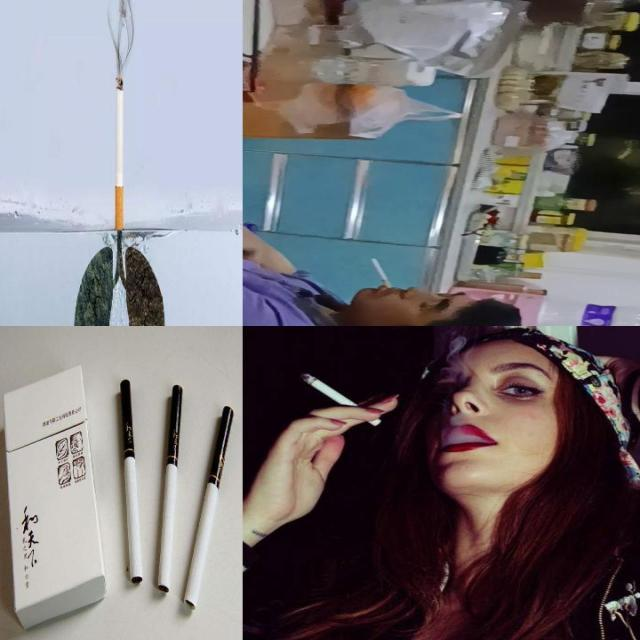smoking: (184, 406, 234, 610), (157, 384, 183, 594), (293, 371, 382, 429), (120, 380, 143, 584), (115, 76, 124, 230), (371, 258, 392, 288)
